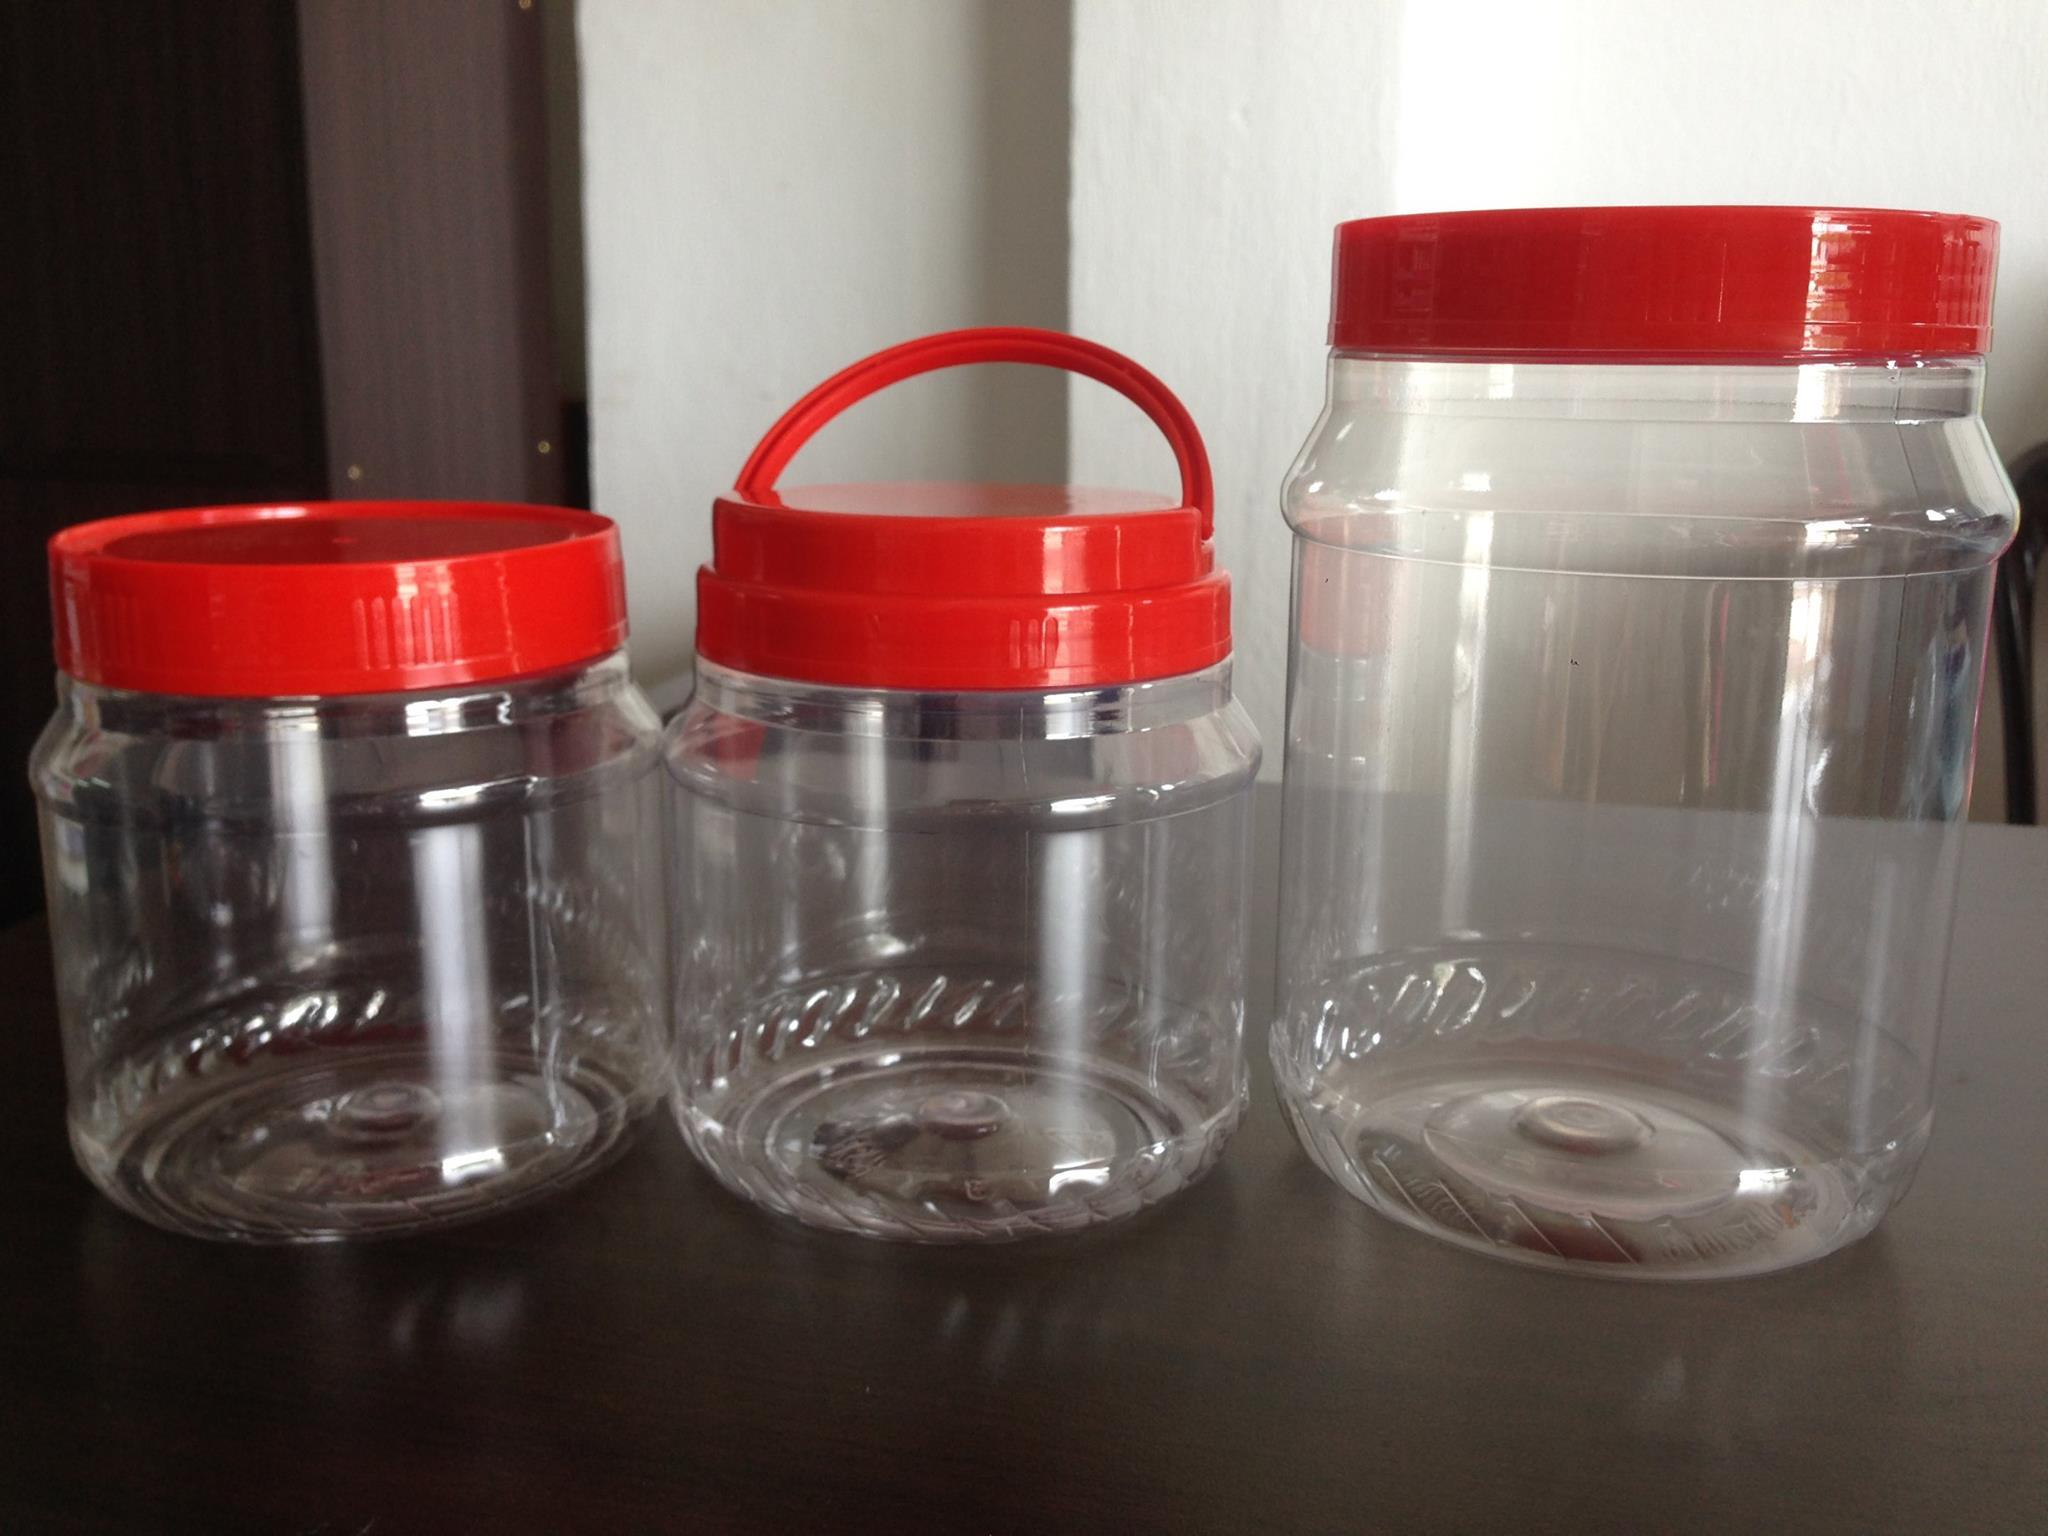plastic: (1272, 195, 2016, 1286), (668, 318, 1269, 1247), (37, 486, 658, 1257)
